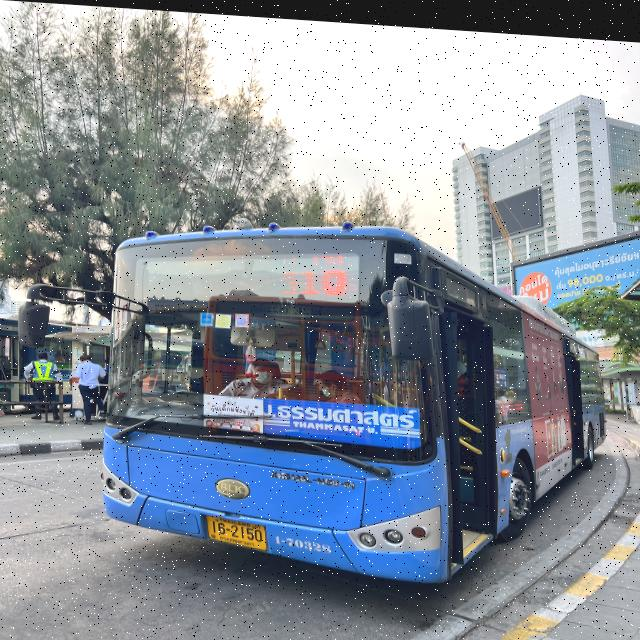BMTA-bus: (101, 206, 606, 591)
Bus-Line-Number: (273, 246, 358, 298)
Destination-Sign-Normal: (257, 391, 424, 444)
